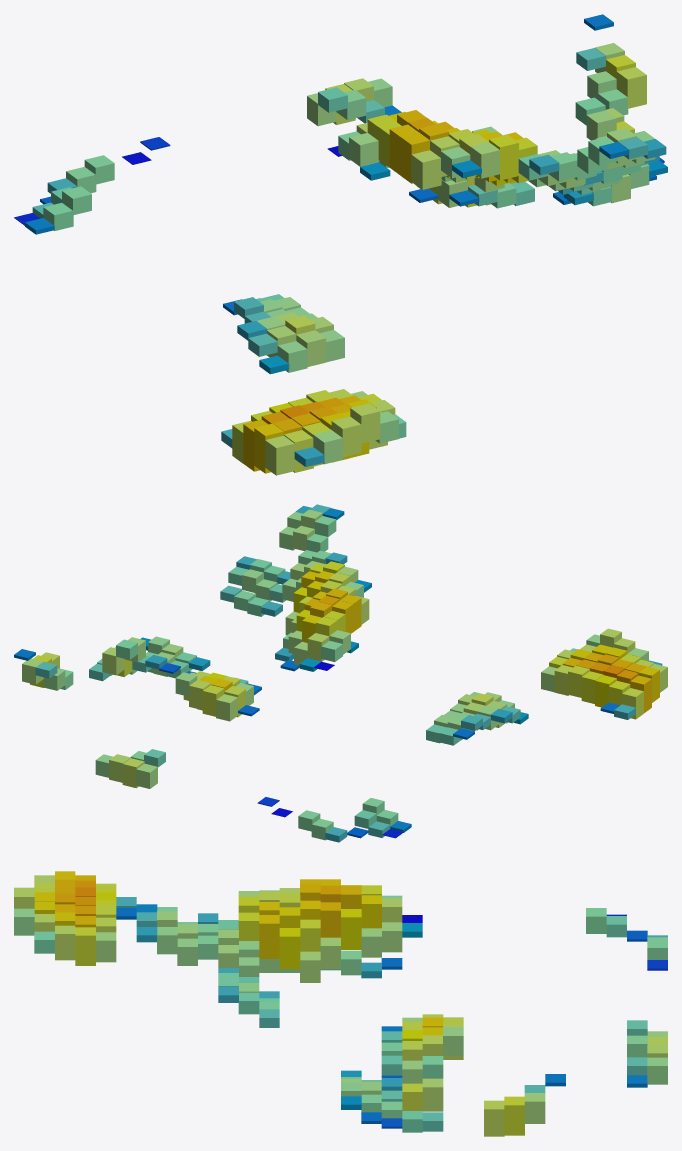
Rendered from population.glb.
3 views of the same model, one above another, from view 1: azimuth 30°, elevation 25°; view 2: azimuth 150°, elevation 25°; view 3: azimuth 270°, elevation 25° (orthographic). The views are drawn at different scales.
Visible parts, largest first — view 1: population; view 2: population; view 3: population.
Boxes of the visible parts, bbox=[...] form: population: bbox=[14, 14, 667, 475]; population: bbox=[14, 504, 667, 842]; population: bbox=[14, 871, 667, 1136].
Bounding box in the file's own units: 3204 × 1000 × 3181.
